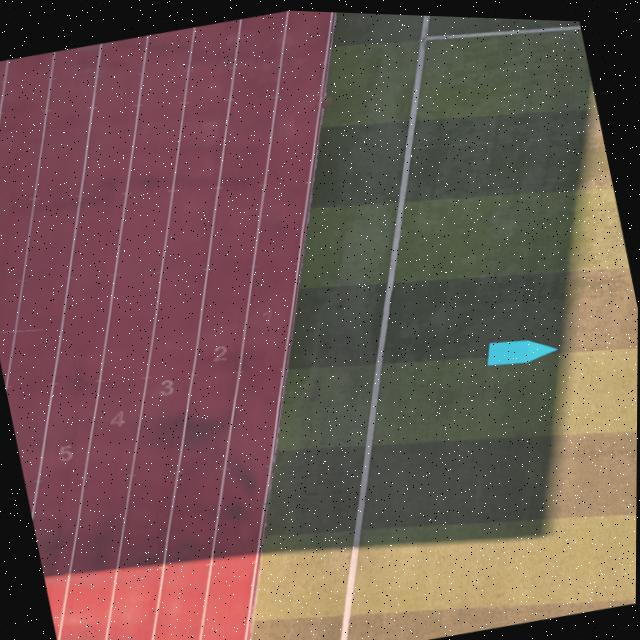board: (486, 335, 559, 362)
